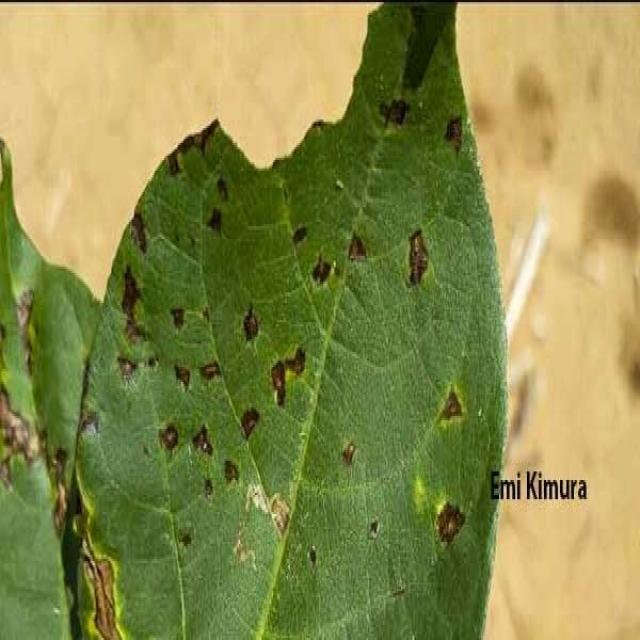Bacterial Blight: (134, 207, 300, 464)
